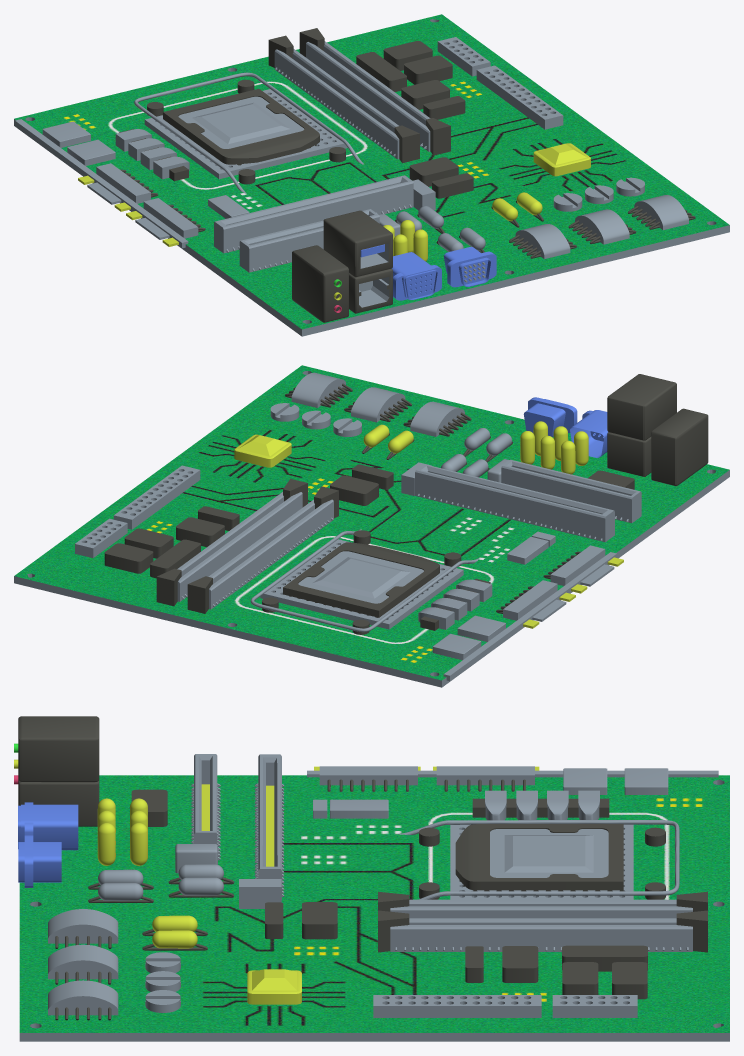
The model's file is simple_motherboard.glb.
The picture shows the model from 3 angles, top to bottom: view 1: azimuth 30°, elevation 25°; view 2: azimuth 150°, elevation 25°; view 3: azimuth 270°, elevation 25°; orthographic projection. The views are drawn at different scales.
Visible parts, largest first — view 1: Motherboard; view 2: Motherboard; view 3: Motherboard.
Part boxes in pixels (bbox=[...]): Motherboard: bbox=[14, 14, 729, 336]; Motherboard: bbox=[14, 365, 729, 687]; Motherboard: bbox=[14, 716, 729, 1041].
Size of the model in its own units: 1.27 by 0.2238 by 1.44.
Materials: 1 (1 with a texture image).
